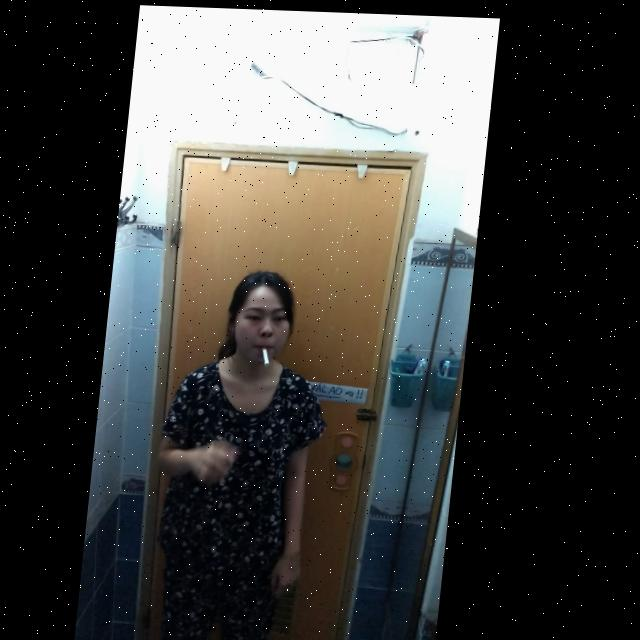cigarette: (267, 345, 278, 364)
